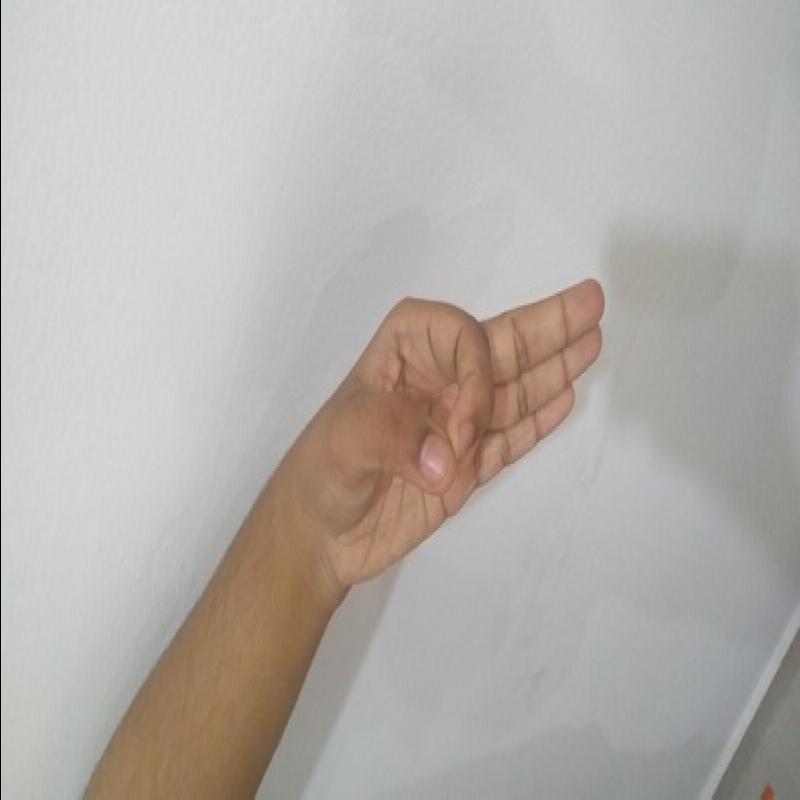Mudraakhyam: (293, 251, 615, 580)
